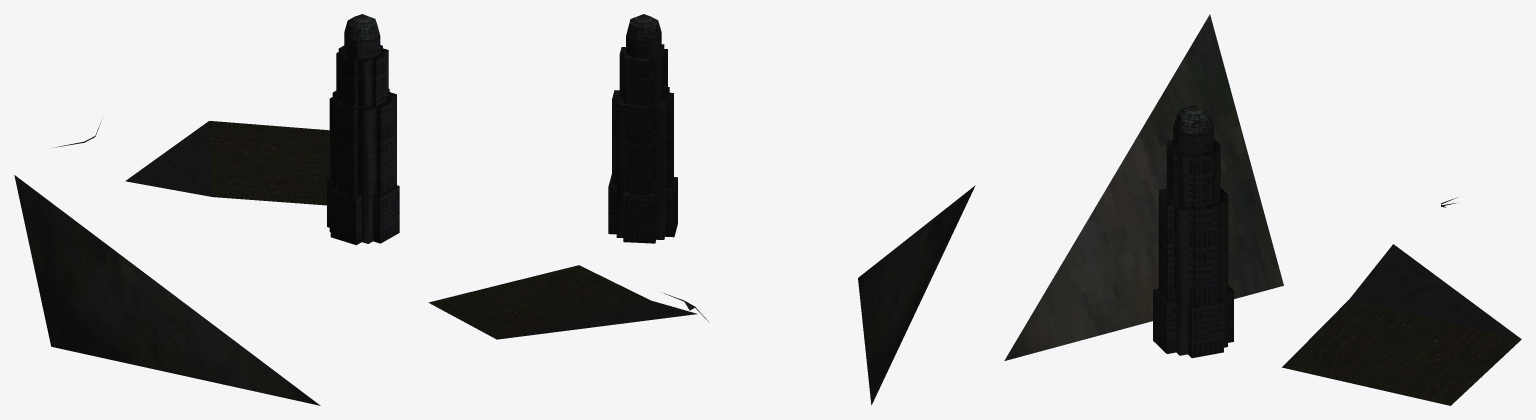
Rendered from cell_-2_2.gltf.
3 views of the same model, side by side, from view 1: azimuth 30°, elevation 25°; view 2: azimuth 150°, elevation 25°; view 3: azimuth 270°, elevation 25° (orthographic). The views are drawn at different scales.
Parts seen in each view (by area): view 1: cell_-2_2; view 2: cell_-2_2; view 3: cell_-2_2.
Boxes of the visible parts, <box> form: cell_-2_2: <box>14,14,399,405</box>; cell_-2_2: <box>428,14,975,405</box>; cell_-2_2: <box>1004,14,1521,405</box>.
Bounding box in the file's own units: 391 × 253 × 366.
7 materials, 7 textured.
